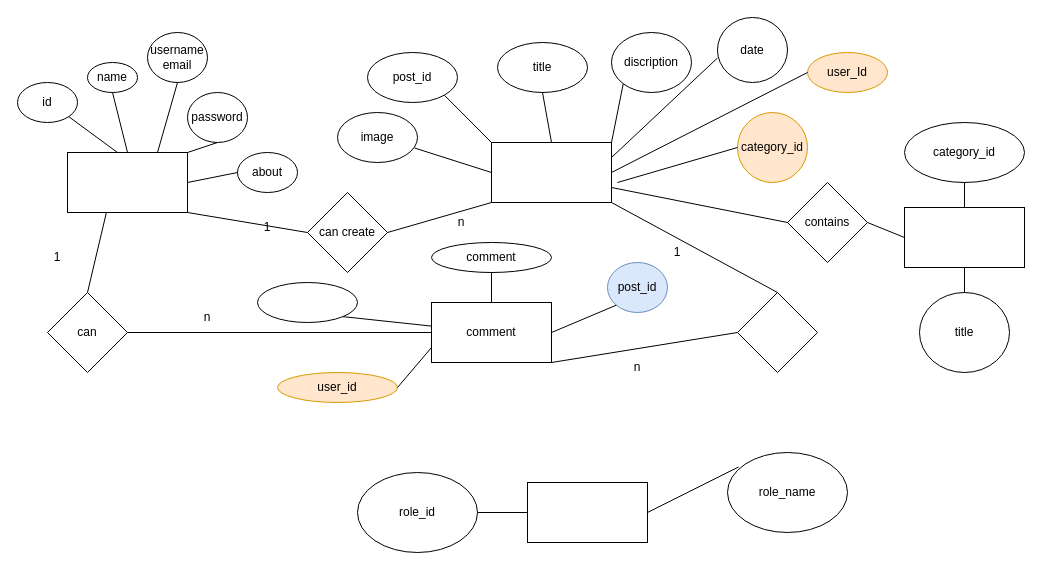
The diagram is 1042 pixels wide and 570 high, and some of its shapes have lost their labels. The shapes that lost their labels are listed below. From the top down, each one's centre as x and y in pixels, then its label:
At pixel 127 182: "user".
At pixel 551 172: "post".
At pixel 964 237: "categoty".
At pixel 307 302: "comment_id".
At pixel 777 332: "have".
At pixel 587 512: "role".
